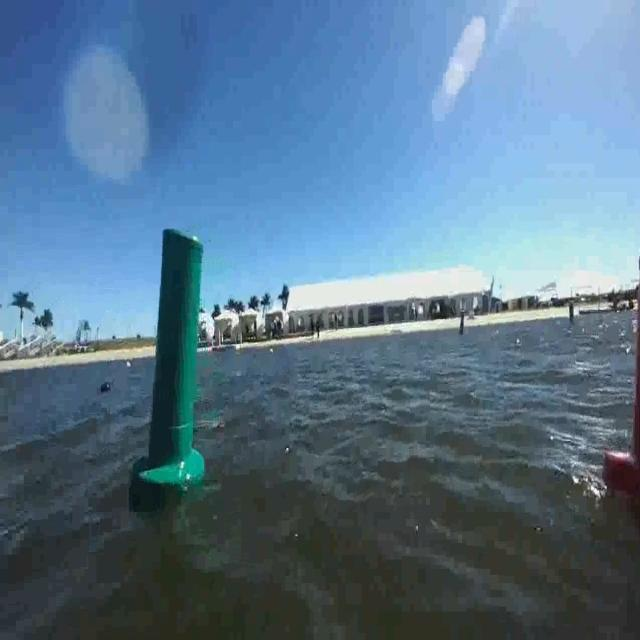green-column-buoy: (138, 227, 208, 494)
